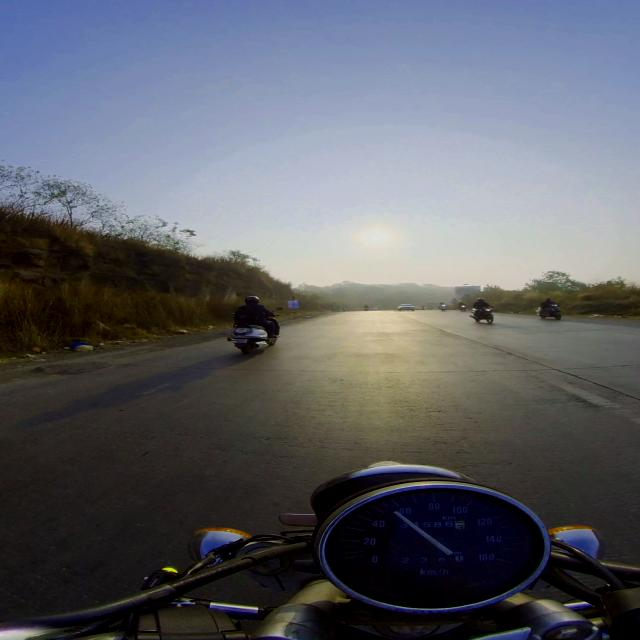car: (397, 304, 415, 311)
motorcycle: (0, 462, 639, 639), (228, 322, 277, 354), (538, 304, 561, 320), (471, 307, 493, 323), (438, 304, 447, 312), (460, 304, 466, 311)
